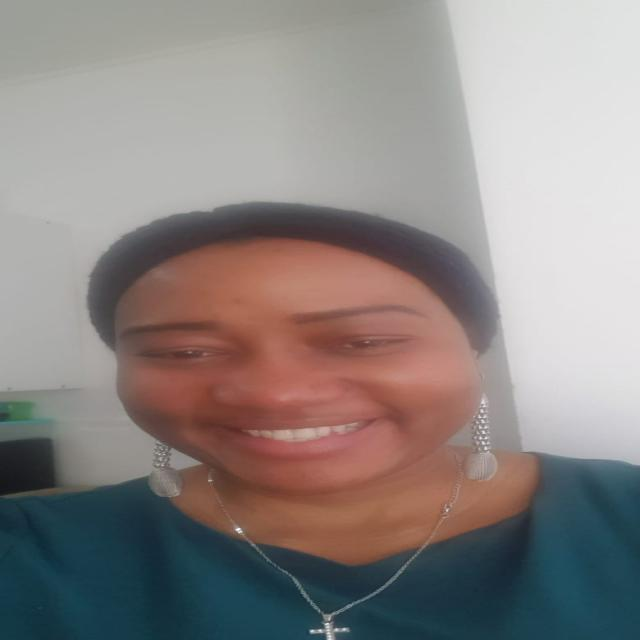happy: (91, 231, 538, 505)
